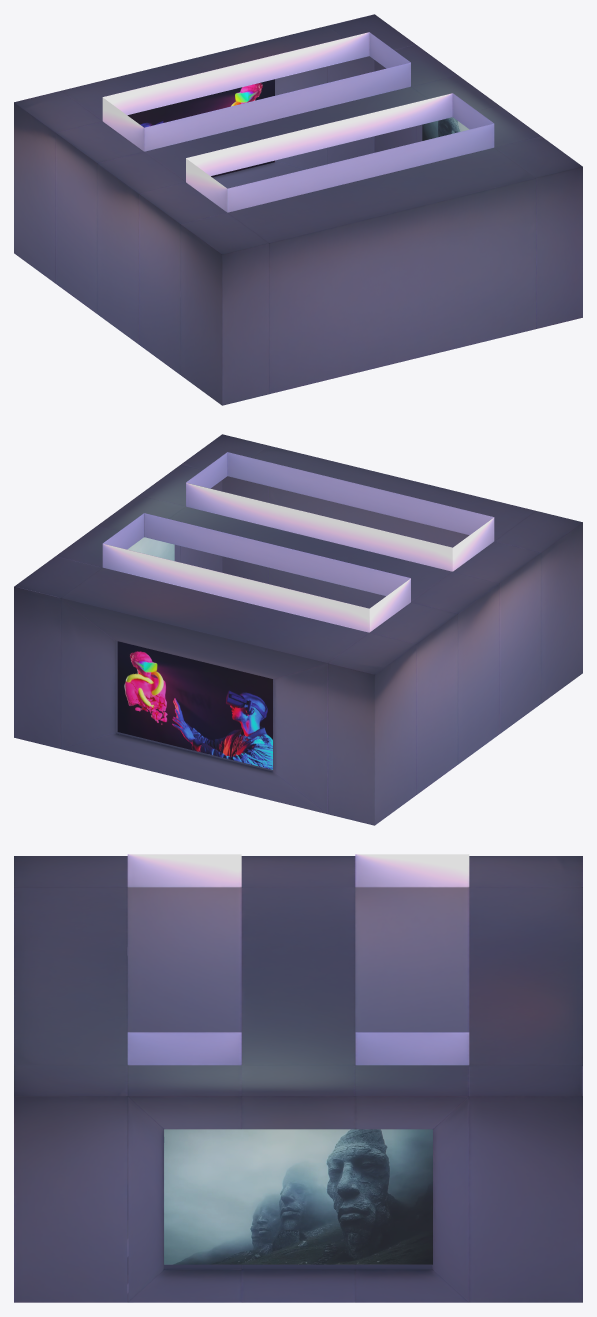
File: vr_art_gallery.glb
The picture shows the model from 3 angles, top to bottom: view 1: azimuth 30°, elevation 25°; view 2: azimuth 150°, elevation 25°; view 3: azimuth 270°, elevation 25°; orthographic projection. The views are drawn at different scales.
Parts seen in each view (by area): view 1: Cube_0; view 2: Cube_0; view 3: Cube_0.
Boxes of the visible parts, x1=… form: Cube_0: x1=14, y1=14, x2=582, y2=405; Cube_0: x1=14, y1=434, x2=582, y2=825; Cube_0: x1=14, y1=854, x2=582, y2=1302.
Bounding box in the file's own units: 10 × 4.64 × 10.
Materials: 4 (4 with a texture image).
